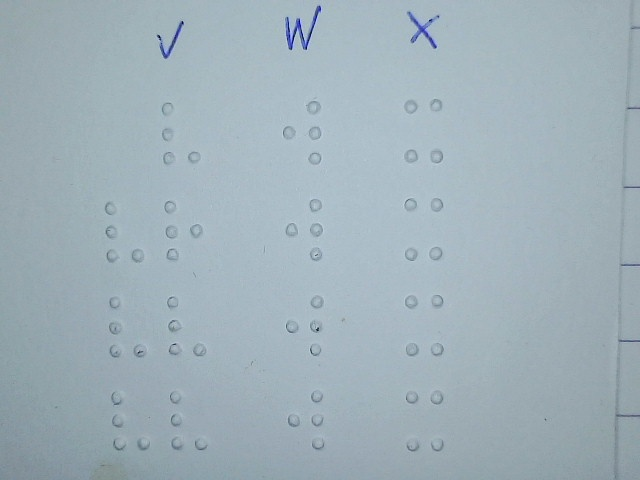V: (161, 99, 203, 166), (104, 198, 146, 265), (166, 292, 208, 359), (168, 387, 210, 454), (110, 387, 152, 454)
W: (281, 98, 323, 165), (283, 195, 325, 262), (284, 291, 326, 358), (285, 386, 327, 453)
X: (402, 96, 444, 163), (403, 196, 445, 263), (403, 290, 445, 357), (404, 388, 446, 455)
